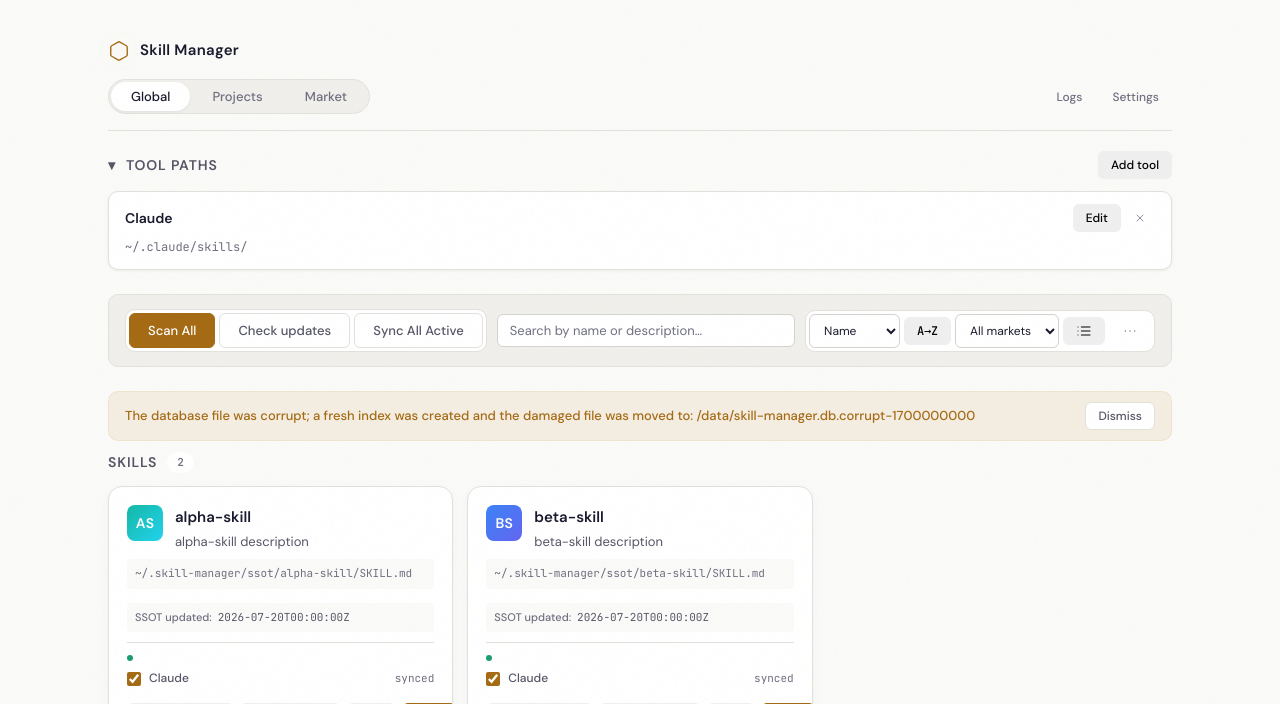
Scenario: App orchestration › tells the user where a quarantined corrupt database went, once
Check: the heading "alpha-skill" is shown, box [175,507,251,527]
Check: the button "Scan All" is shown, box [129,313,215,348]
Click the button "Dismiss": x=1120, y=416 [1085,402,1155,430]
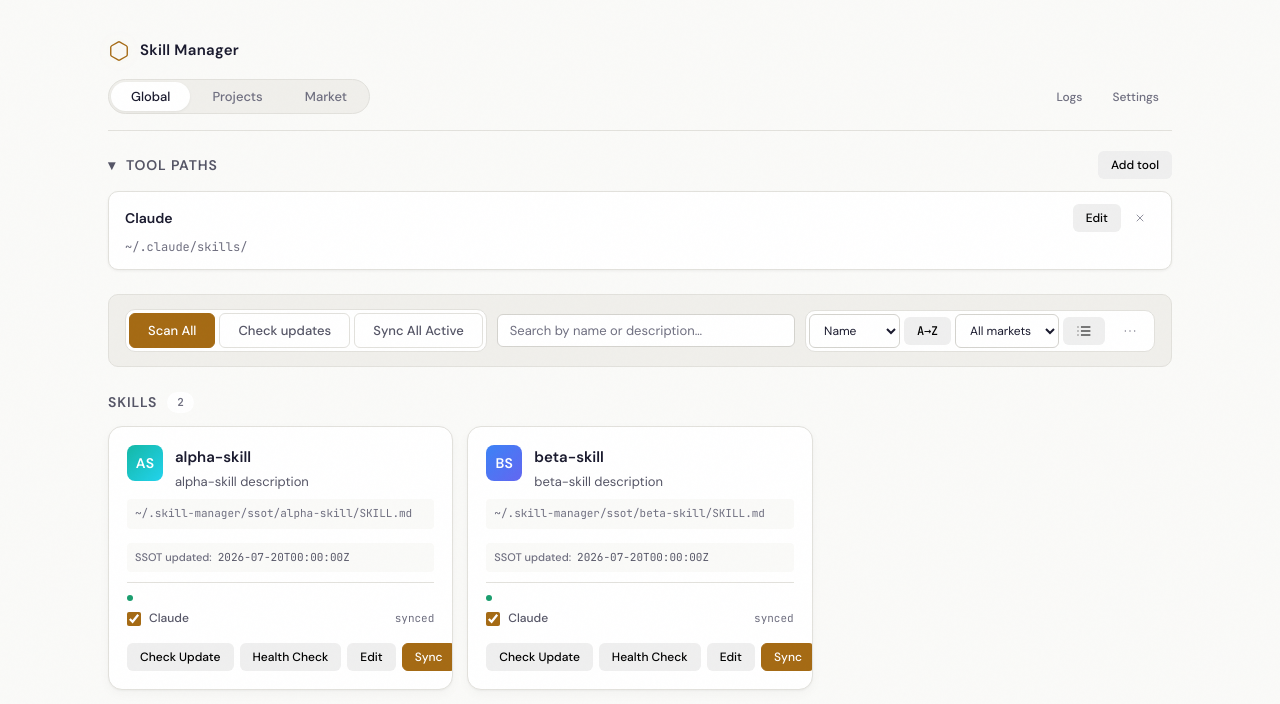
Check: the message is gone
